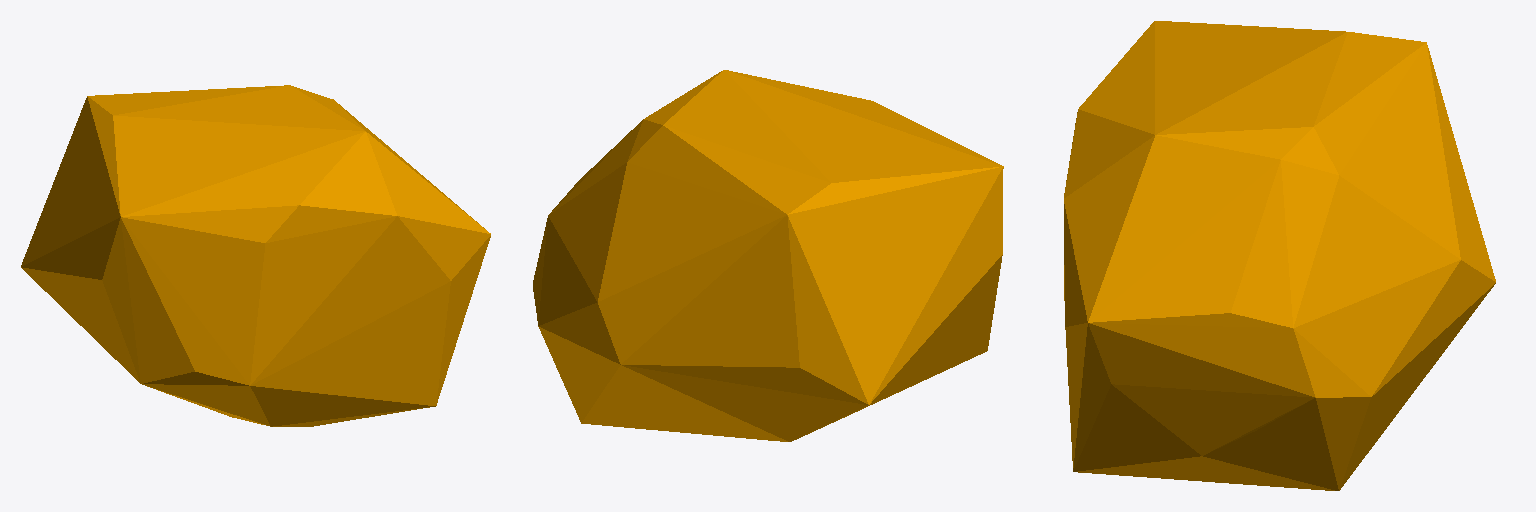
The robot description file, URDF, robot "056_013_3675":
<?xml version="1.0"?>
<robot name="056_013_3675">
  <link name="link">
    <contact>
      <lateral_friction value="0.6"/>
    </contact>
    <inertial>
      <mass value = "0.22396166098066073"/>
      <inertia ixx="6.447853846402597e-05" ixy="-4.46054146526637e-06" ixz="-6.973693966131098e-06" iyy="7.800780875736532e-05" iyz="2.100845916197918e-06" izz="8.559833247707434e-05" />
    </inertial>
    <visual name="visual">
      <geometry>
        <mesh filename="056_013_3675.obj"/>
      </geometry>
    </visual>
    <collision name="collision">
      <geometry>
        <mesh filename="056_013_3675.obj"/>
      </geometry>
    </collision>
  </link>
</robot>

--- Facts derived from the render (not from the file) ---
3 views of the same robot in one strip: view 1: azimuth 30°, elevation 25°; view 2: azimuth 150°, elevation 25°; view 3: azimuth 270°, elevation 25° (orthographic).
Model 056_013_3675 with 1 links and 0 joints (none), rooted at link, posed all joints at 0.
Visible links, largest first — view 1: link; view 2: link; view 3: link.
Link boxes in pixels (bbox=[...]): link: bbox=[21, 85, 490, 426]; link: bbox=[533, 70, 1003, 441]; link: bbox=[1064, 21, 1495, 490].
Size in the robot's own frame: 0.0642 by 0.0554 by 0.0473 metres.
1 mesh visuals loaded from 1 distinct referenced files (1 OBJ).
